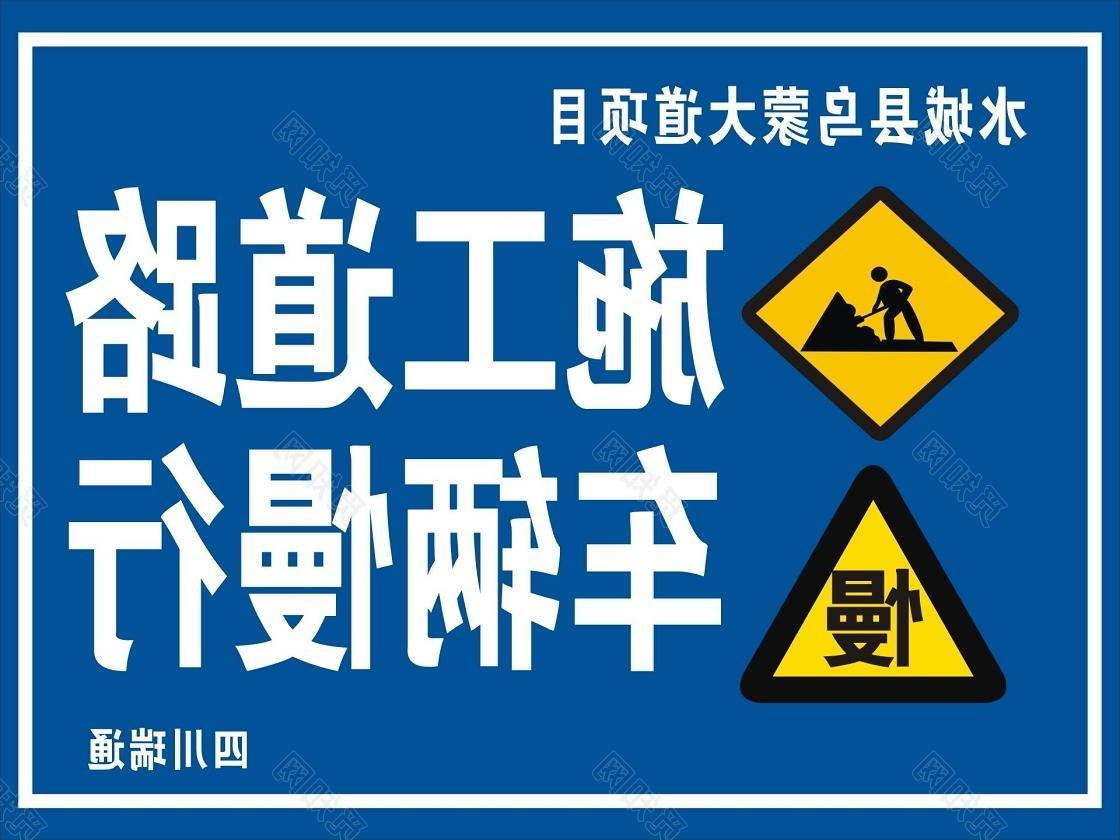sign: (14, 22, 1107, 813)
